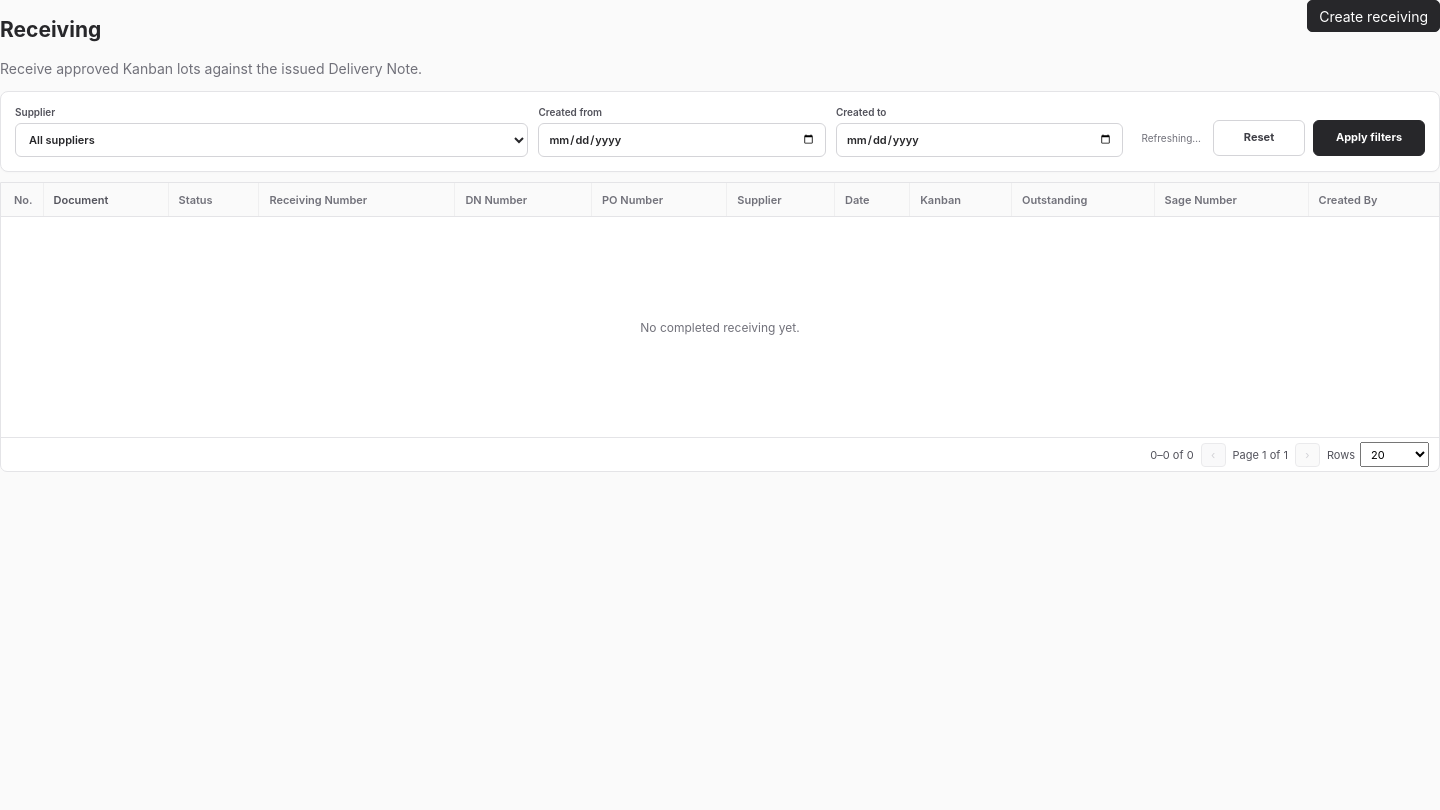
Test case: shows English validation for DN_FULLY_RECEIVED
This screenshot has width=1440, height=810.
Click the button "Create receiving". click: point(1374, 16)
box: left=1307, top=0, right=1439, bottom=32
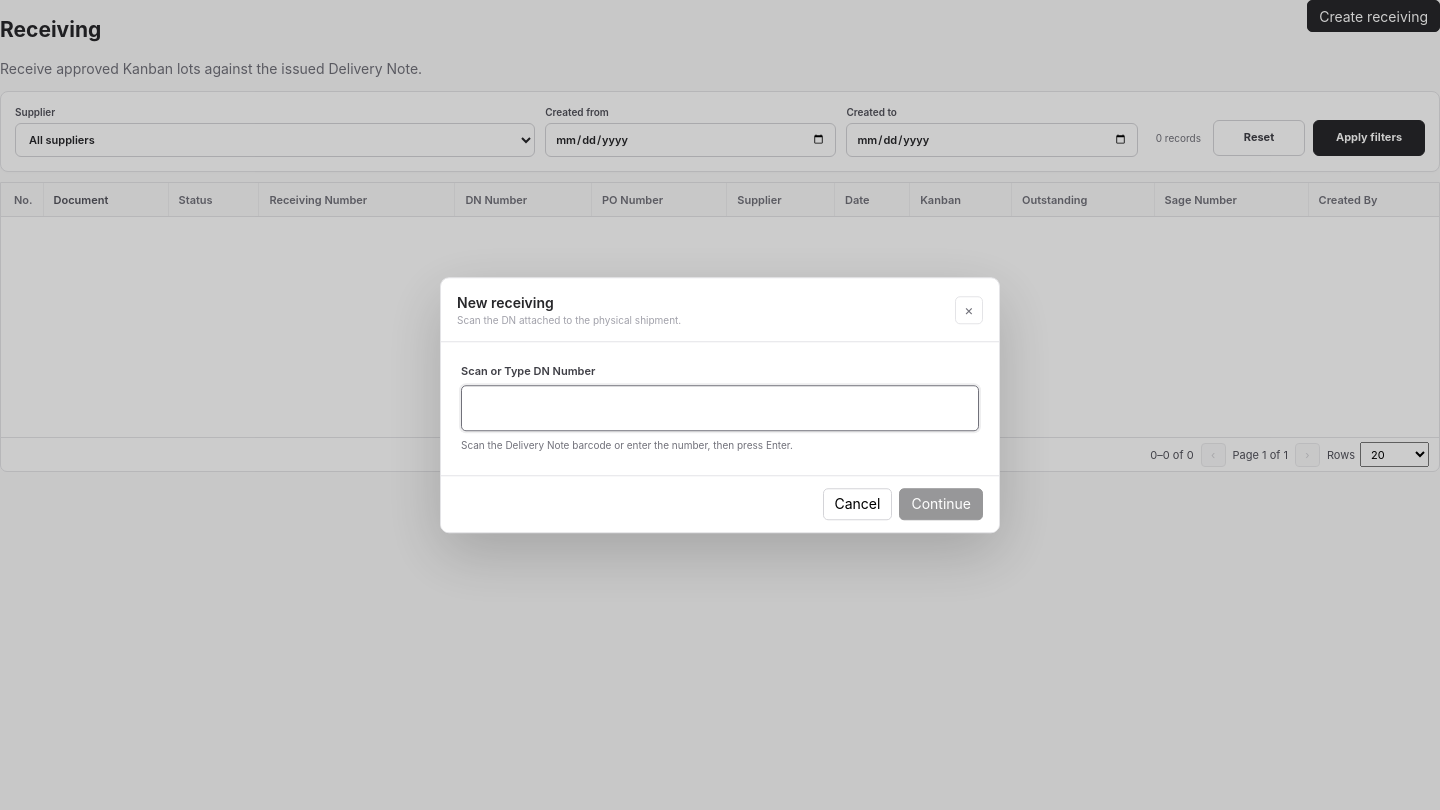
Type "DN-X" into the field labelled "Scan or Type DN Number". click: point(720, 408)
box: left=461, top=385, right=979, bottom=431
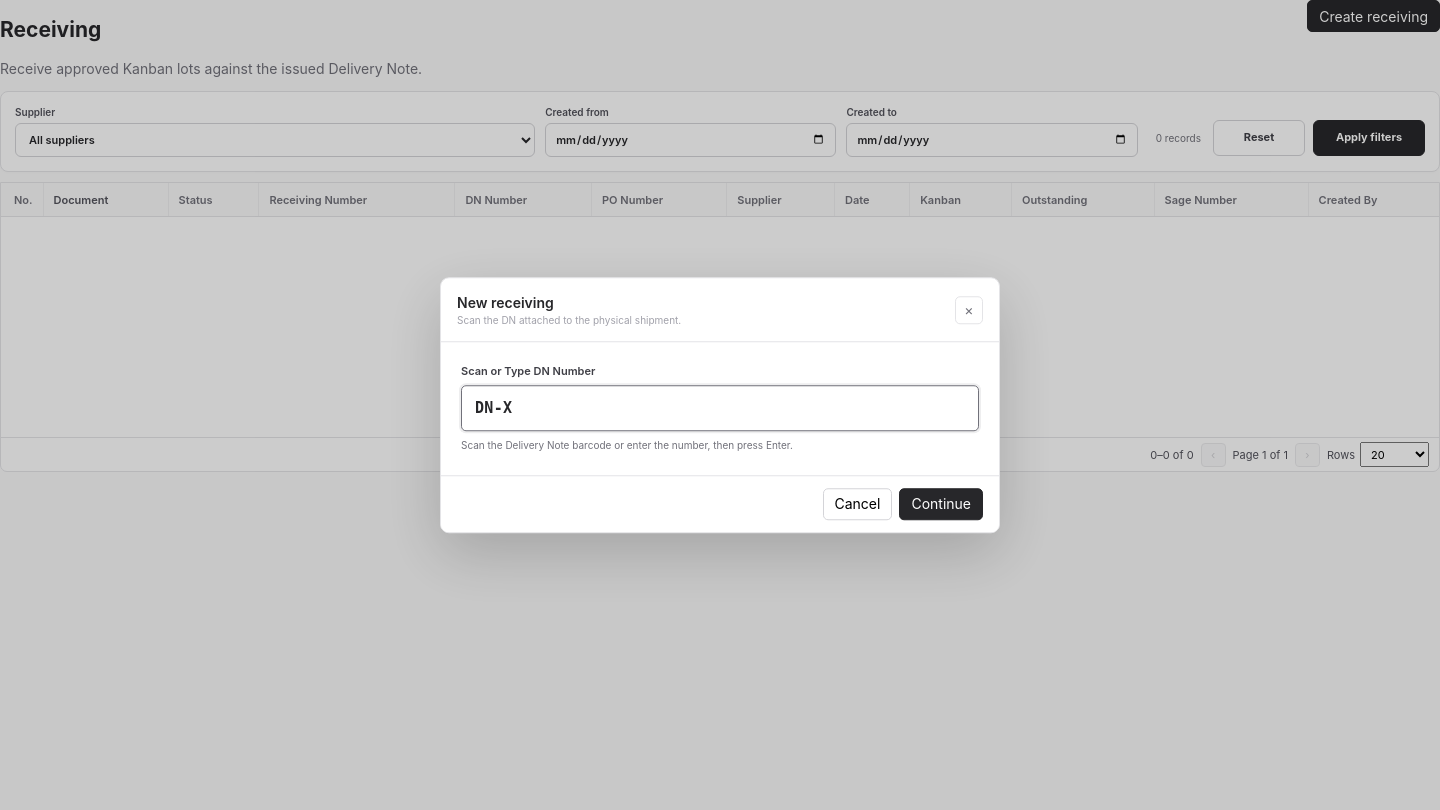
Submit the form labelled "Scan or Type DN Number", box left=441, top=342, right=999, bottom=532
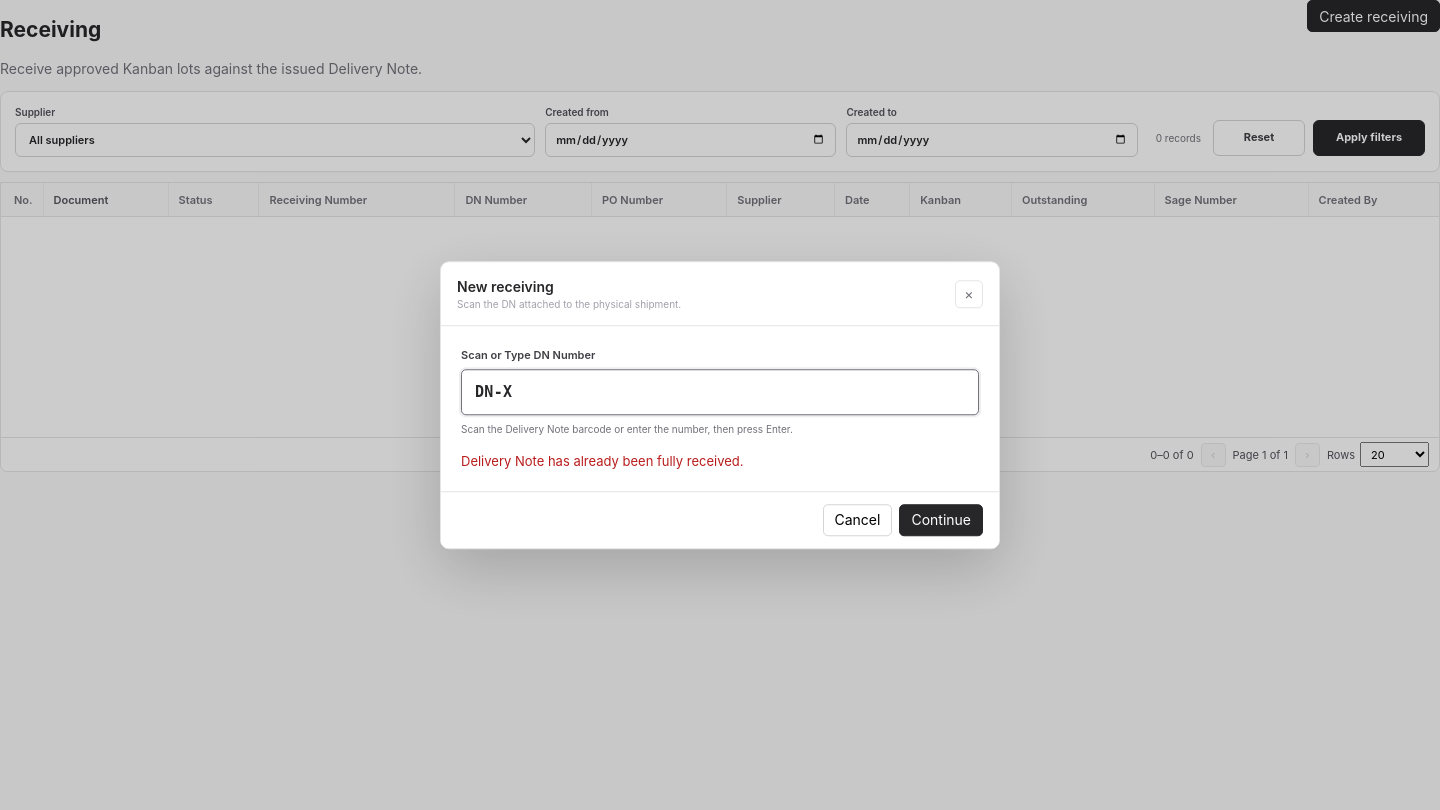
Expected: the message reads "Delivery Note has already been fully received.", left=461, top=453, right=744, bottom=469
